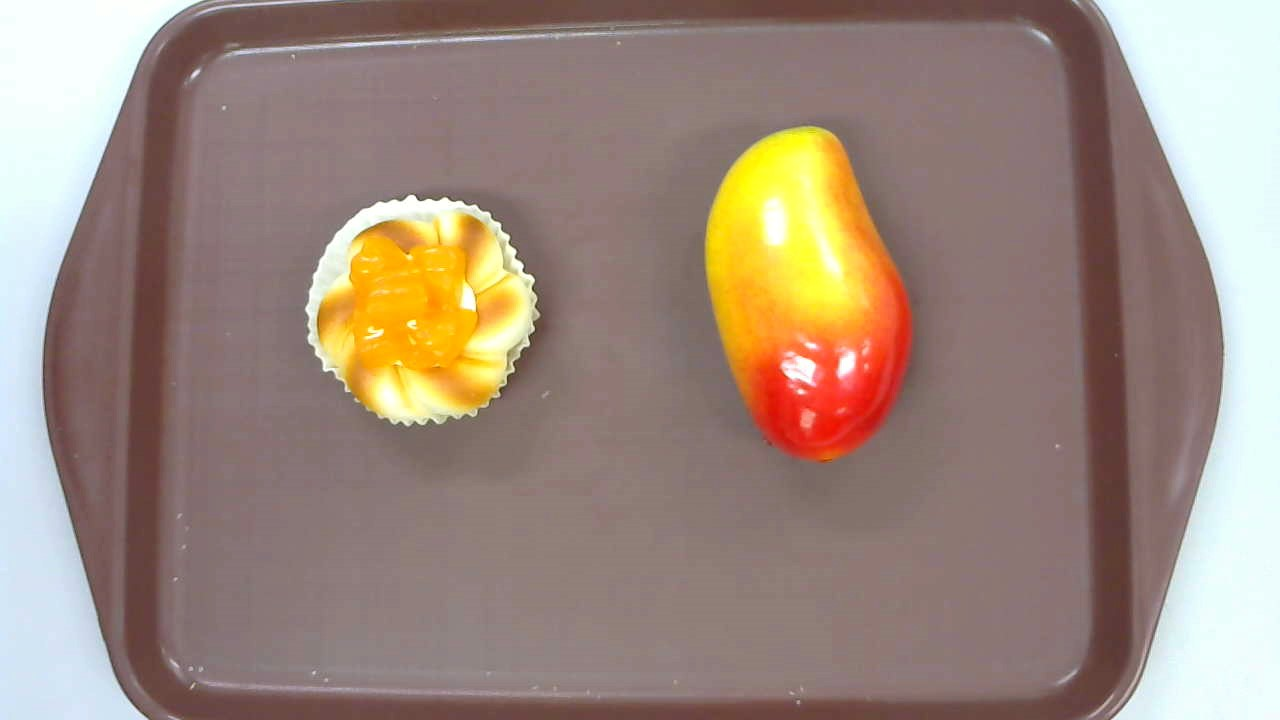mango tart: (304, 193, 540, 428)
red mango: (704, 125, 914, 463)
